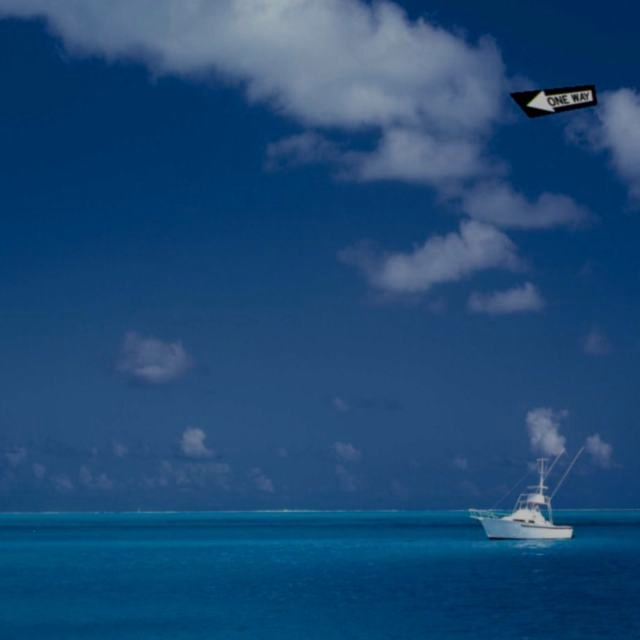ONE_WAY_ left: (508, 84, 597, 118)
